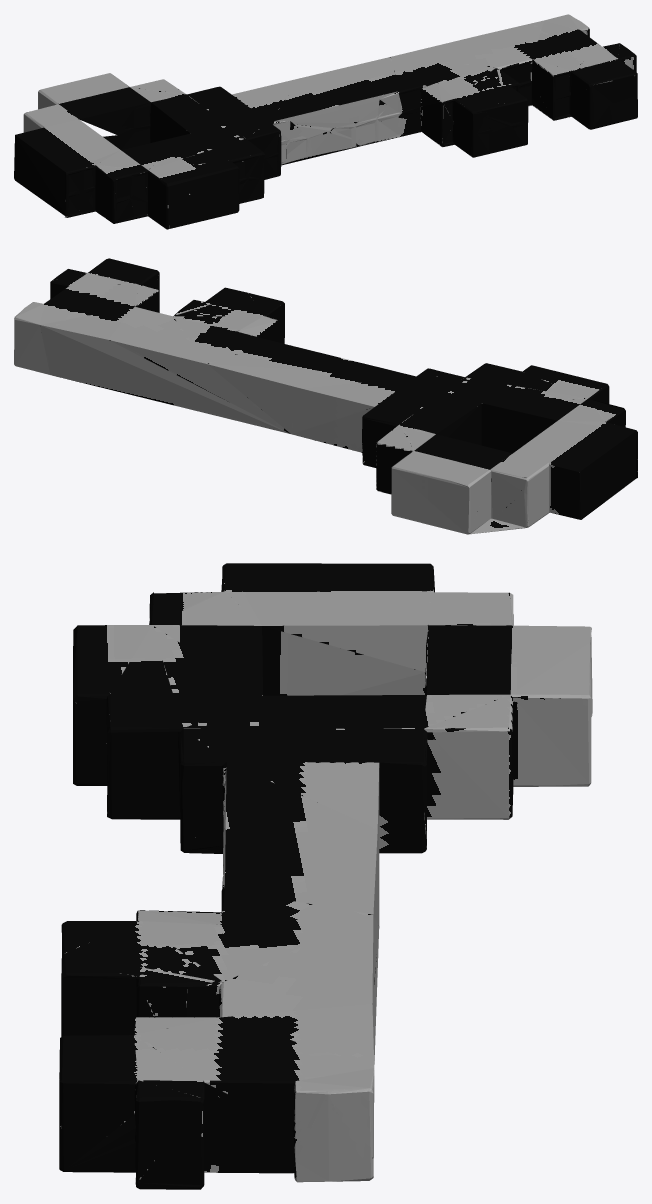
3 renders of one model, top to bottom at view 1: azimuth 30°, elevation 25°; view 2: azimuth 150°, elevation 25°; view 3: azimuth 270°, elevation 25°, orthographic. The views are drawn at different scales.
Parts seen in each view (by area): view 1: OBJ100; view 2: OBJ100; view 3: OBJ100.
Boxes of the visible parts, x1=… form: OBJ100: x1=14, y1=14, x2=637, y2=229; OBJ100: x1=14, y1=258, x2=637, y2=534; OBJ100: x1=59, y1=563, x2=592, y2=1189.
Bounding box in the file's own units: 0.2599 × 0.0208 × 0.1091.
Materials: 1 (1 with a texture image).
